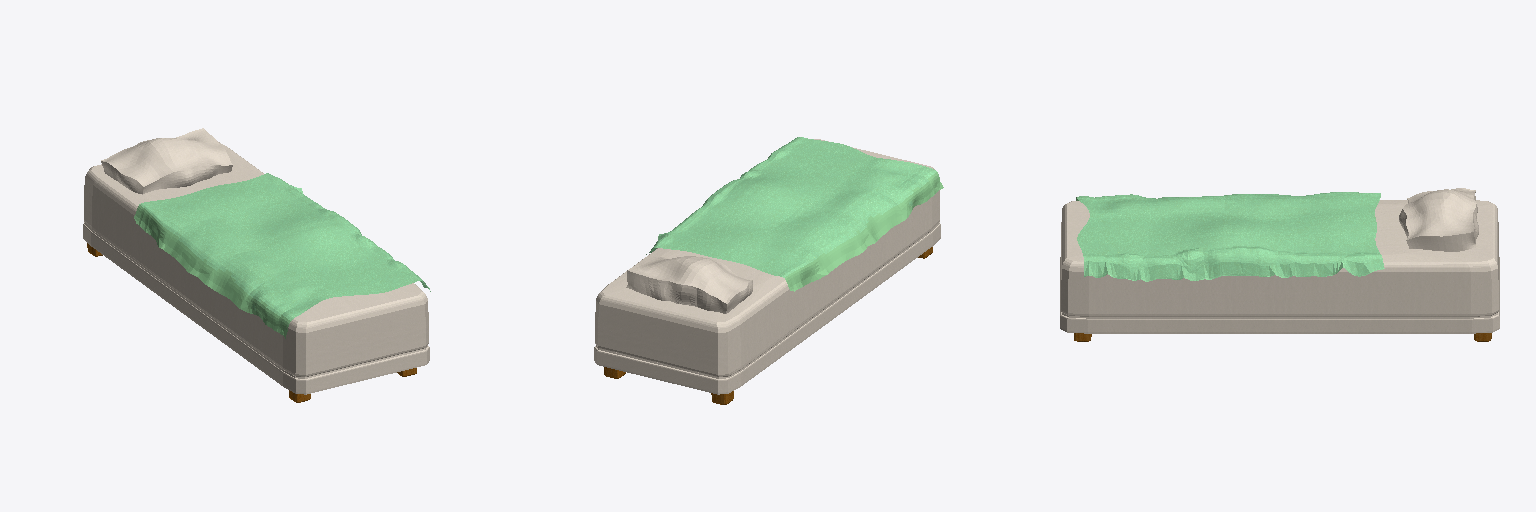
3 renders of one model, left to right at view 1: azimuth 30°, elevation 25°; view 2: azimuth 150°, elevation 25°; view 3: azimuth 270°, elevation 25°, orthographic.
Visible parts, largest first — view 1: polySurface5; view 2: polySurface5; view 3: polySurface5.
Boxes of the visible parts, x1,y1,x2,y2 form: polySurface5: [83, 128, 430, 402]; polySurface5: [594, 137, 943, 404]; polySurface5: [1060, 188, 1499, 341].
Size of the model in its own units: 1.75 by 1.19 by 4.08.
4 materials, 3 textured.